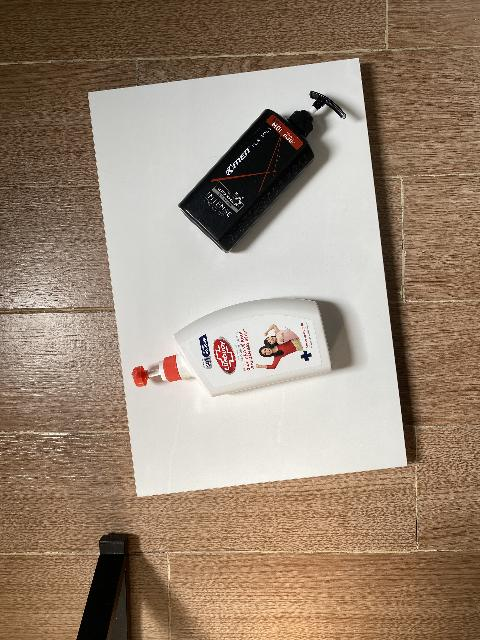X-men: (178, 91, 346, 254)
life-buoy: (131, 298, 332, 397)
